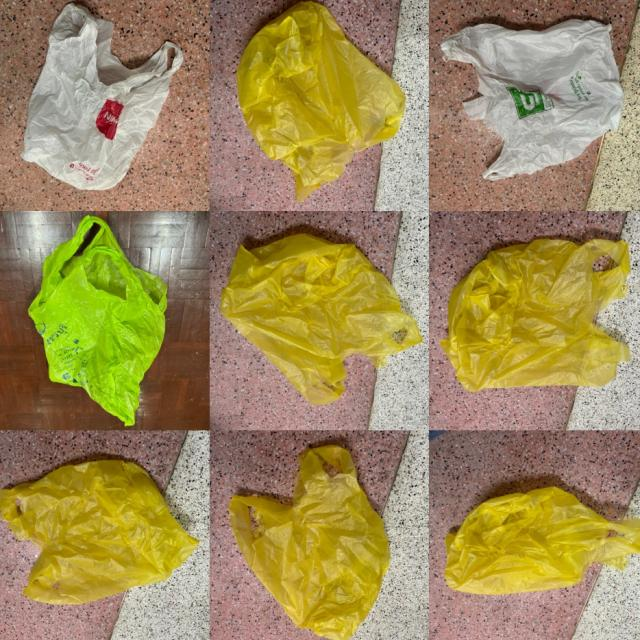plastik: (220, 235, 422, 405), (237, 1, 405, 202), (229, 445, 390, 640), (21, 4, 183, 190), (441, 19, 624, 181), (29, 216, 168, 426), (441, 239, 630, 391), (0, 461, 199, 603), (445, 487, 640, 594)
